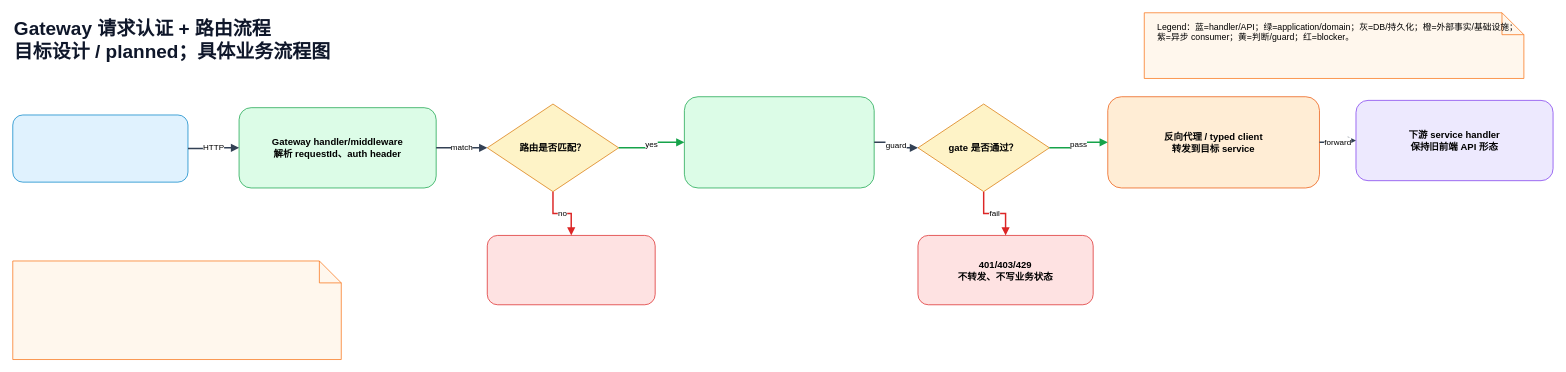
Image size: 1566x372. Some labels were removed from this diagram. Each missing label, with the box of its shape:
404 route not found 不触达下游服务: (487, 235, 655, 305)
关键约束 Gateway 不拥有业务数据；只能路由、鉴权、限流和环境切换。: (12, 260, 341, 360)
前端请求 旧 API path/header/body: (12, 114, 188, 182)
认证/限流/权限 gate JWT 校验、角色上下文: (684, 96, 874, 188)
